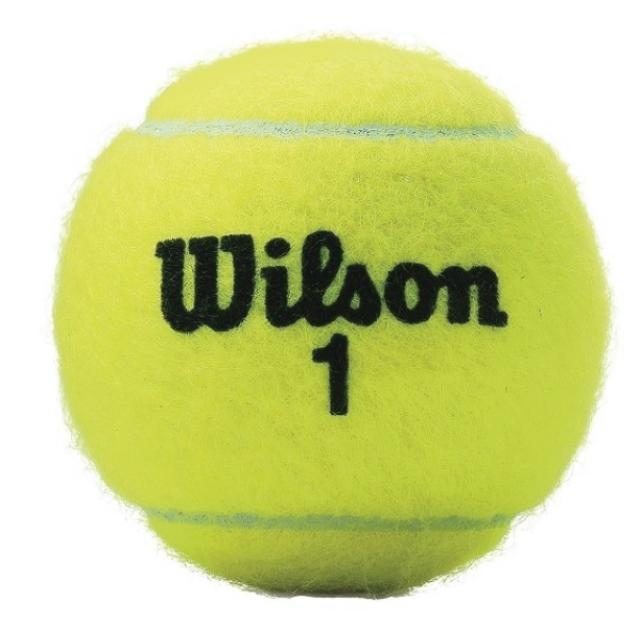tenis ball: (52, 33, 618, 602)
